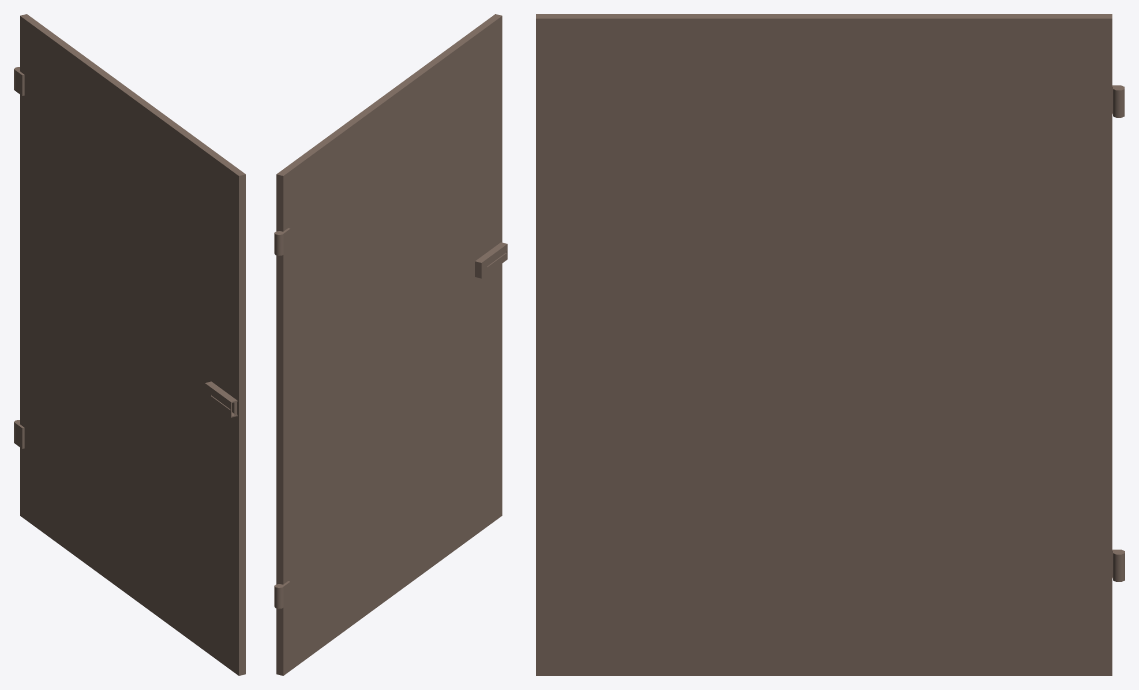
Rendered from Puerta.fbx.
3 views of the same model, side by side, from view 1: azimuth 30°, elevation 25°; view 2: azimuth 150°, elevation 25°; view 3: azimuth 270°, elevation 25° (orthographic). The views are drawn at different scales.
Visible parts, largest first — view 1: Puerta; view 2: Puerta; view 3: Puerta.
Boxes of the visible parts, box(x1,y1,x2,y2) form: Puerta: box(14, 14, 245, 675); Puerta: box(274, 14, 507, 675); Puerta: box(536, 14, 1124, 675).
Size of the model in its own units: 0.0484 by 1.7 by 1.38.
